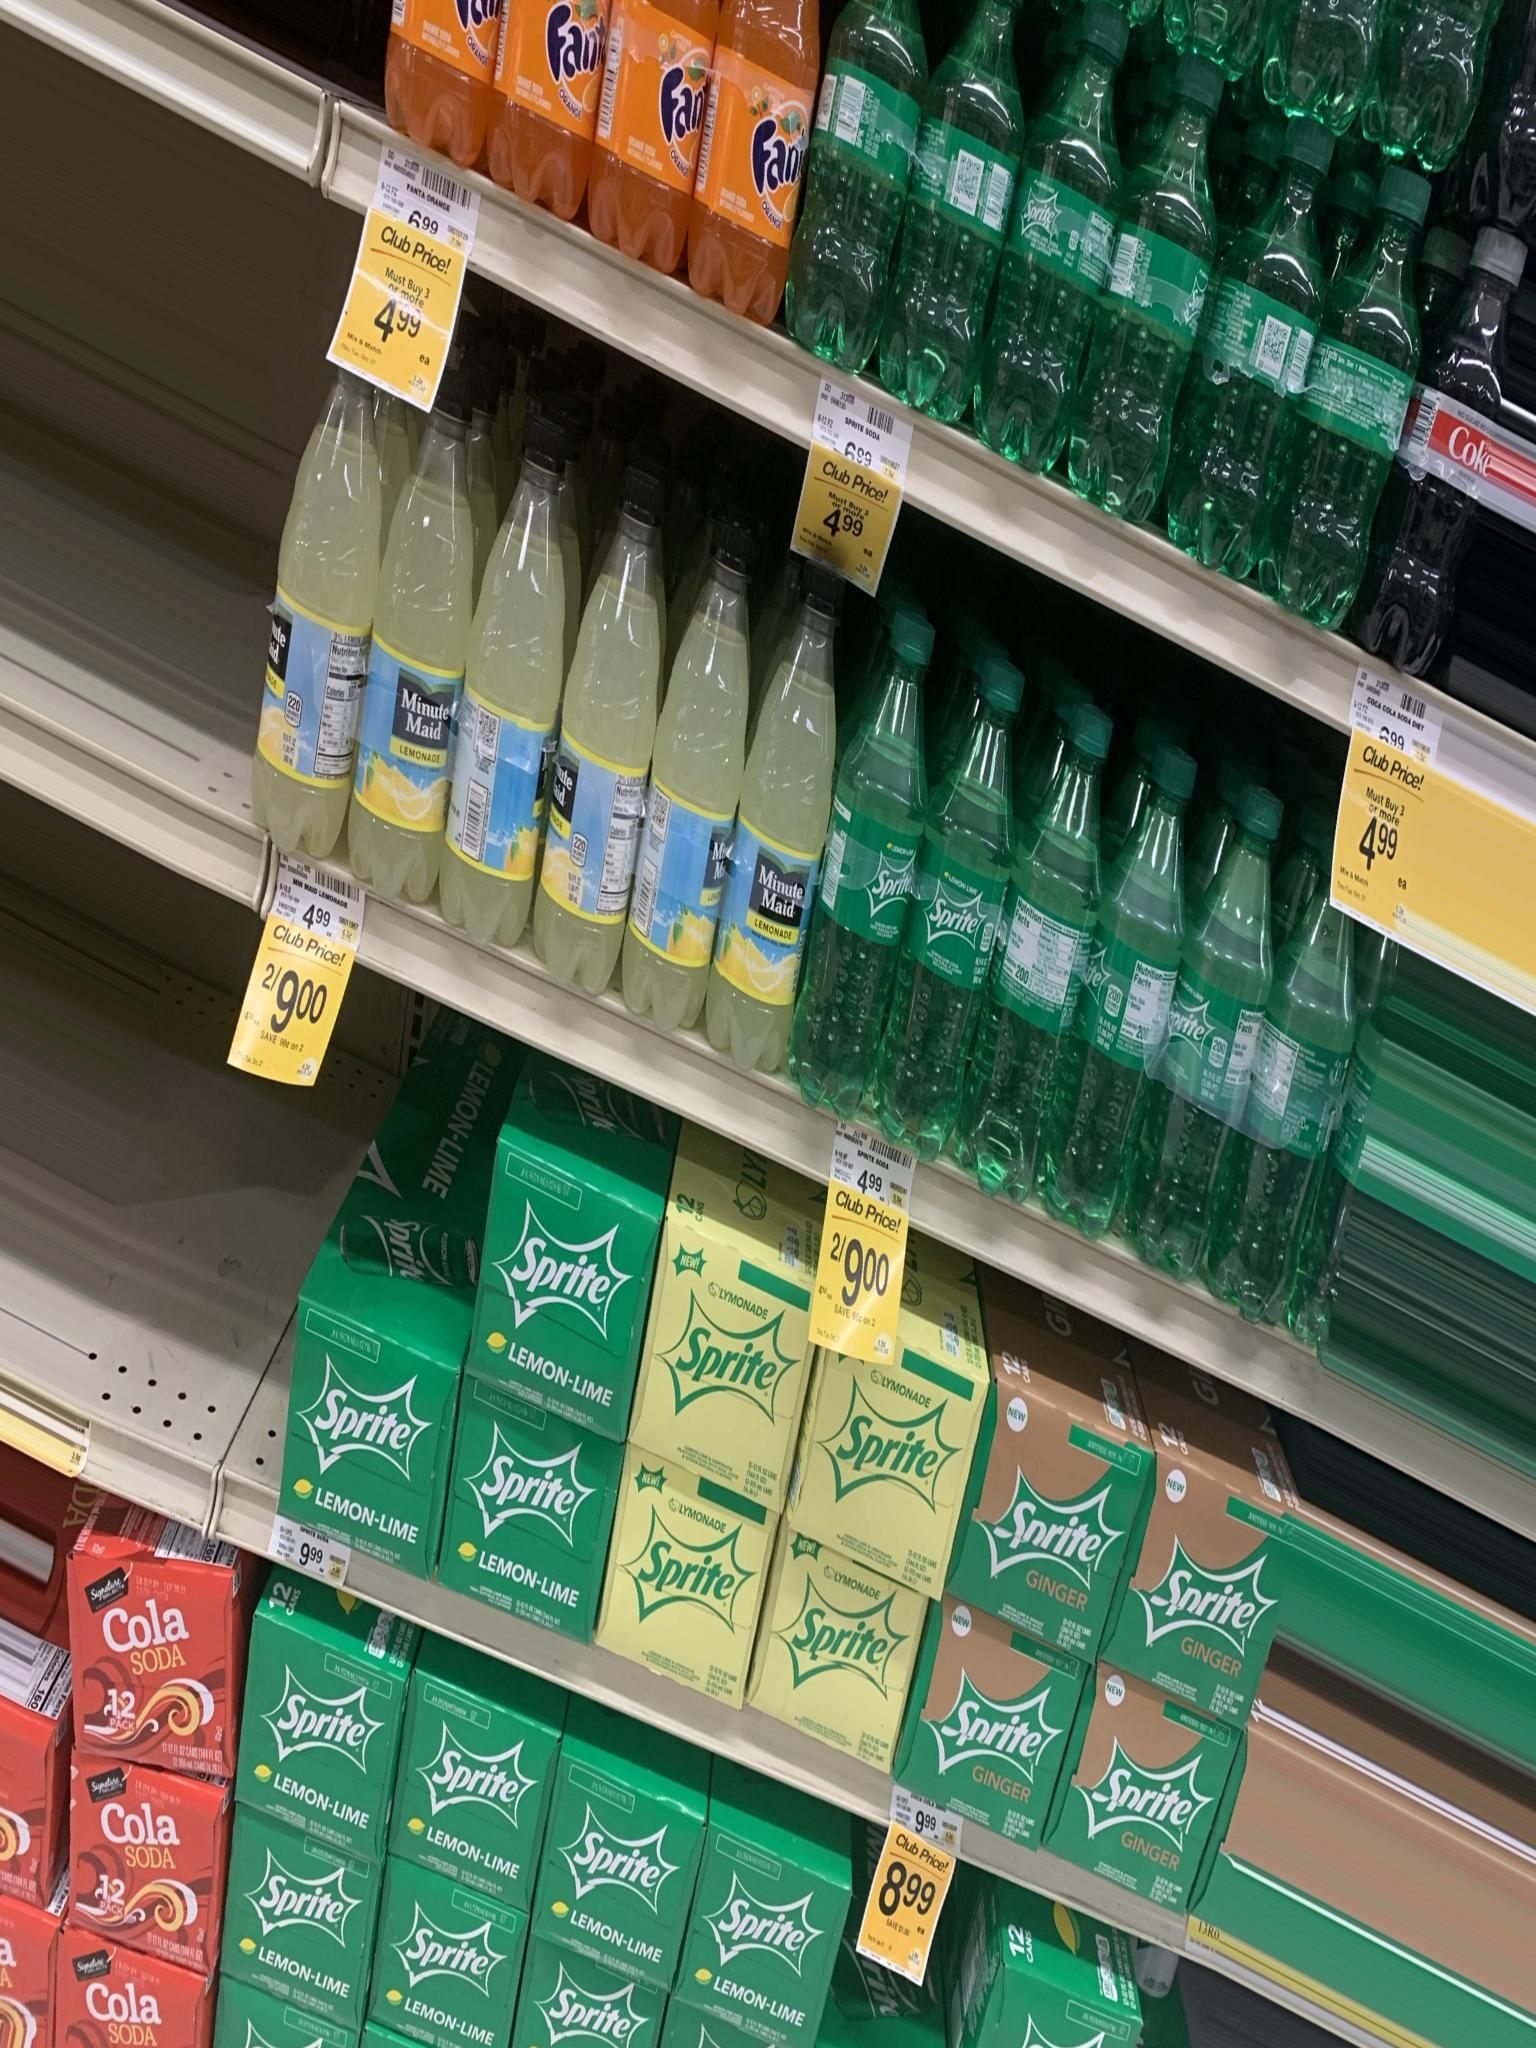soda: (468, 1127, 636, 1437), (631, 1213, 792, 1514), (47, 1548, 239, 1772), (1117, 1450, 1276, 1716), (286, 1305, 437, 1576), (215, 1609, 381, 1854), (594, 1451, 753, 1700), (913, 1593, 1066, 1851), (437, 1384, 592, 1637), (808, 1322, 950, 1596), (963, 1393, 1120, 1642), (1057, 1669, 1212, 1913), (387, 1679, 549, 1901), (762, 1540, 904, 1787), (689, 1801, 829, 2038), (544, 1743, 678, 1963), (55, 1755, 202, 1946), (223, 1825, 358, 2017), (374, 1871, 515, 2048), (499, 1917, 665, 2048)
